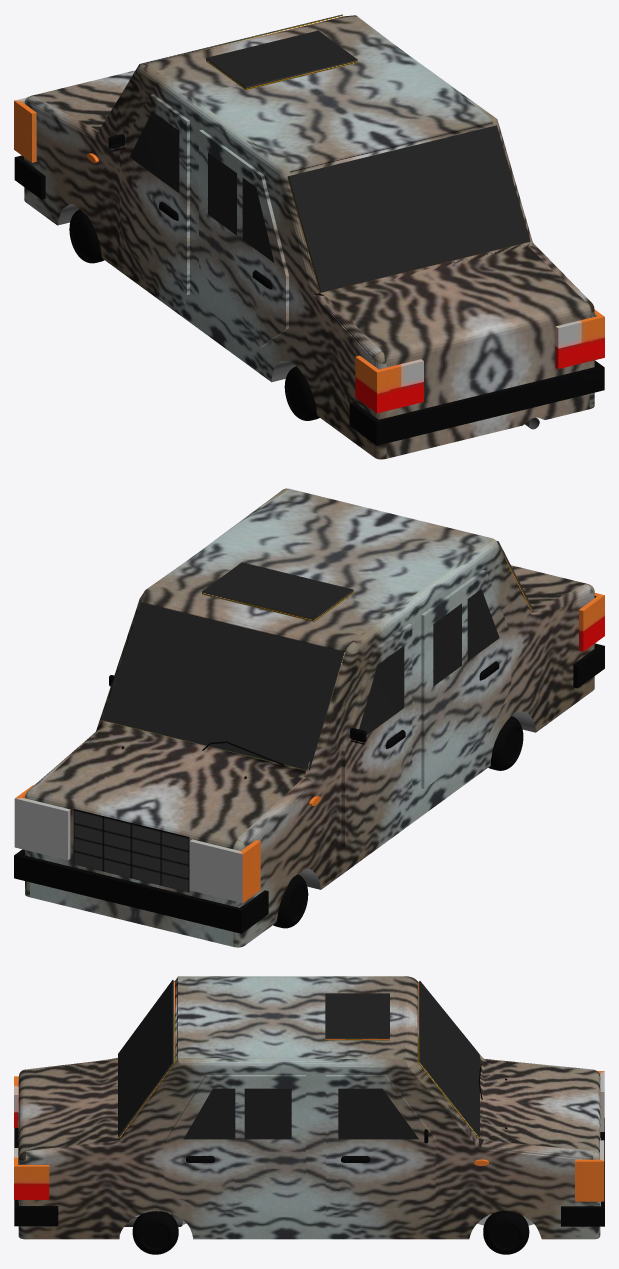
Rendered from Bil.FBX.
3 views of the same model, one above another, from view 1: azimuth 30°, elevation 25°; view 2: azimuth 150°, elevation 25°; view 3: azimuth 270°, elevation 25° (orthographic). The views are drawn at different scales.
Parts seen in each view (by area): view 1: Bil; view 2: Bil; view 3: Bil.
Part boxes in pixels (left/top/right/bottom): Bil: left=14, top=14, right=604, bottom=459; Bil: left=14, top=488, right=604, bottom=947; Bil: left=14, top=976, right=604, bottom=1254.
Size of the model in its own units: 32.42 by 29.42 by 79.23.
Materials: 1 (1 with a texture image).
